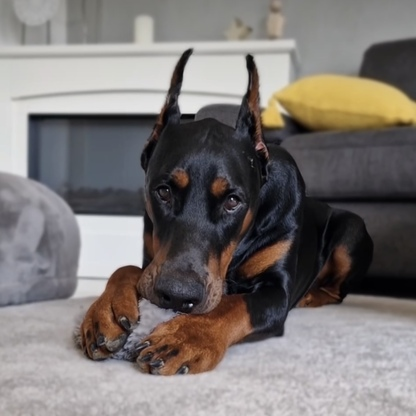doberman: (75, 50, 373, 376)
